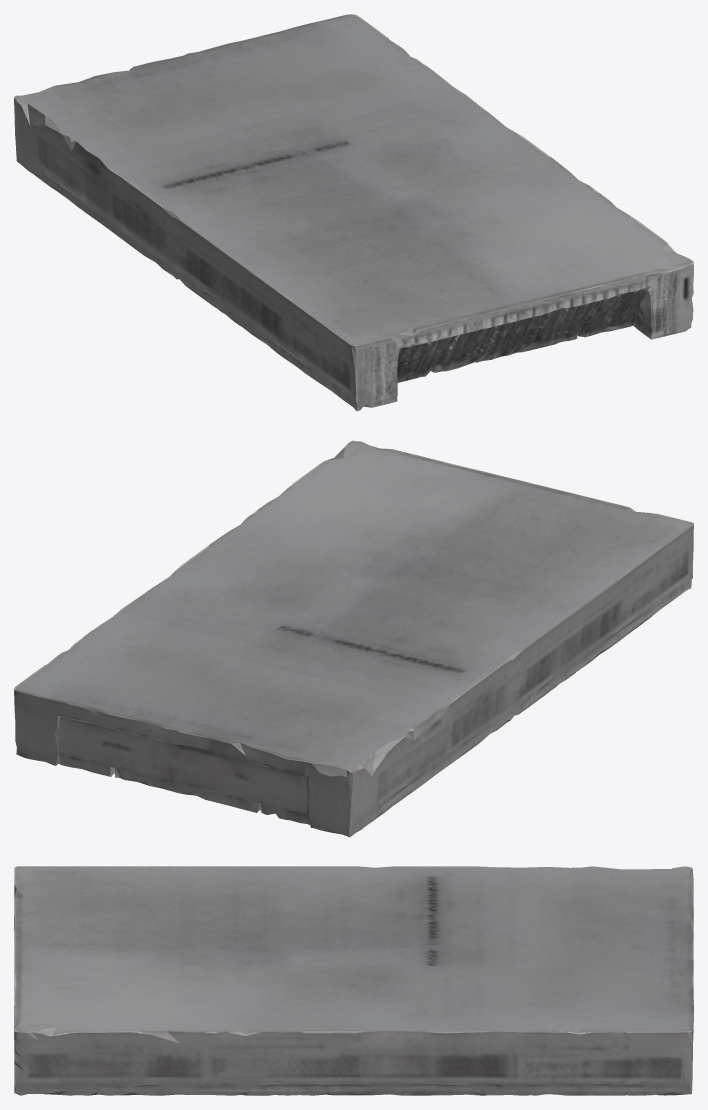
File: cisco-ucs-c240-m7.rodin.glb
3 renders of one model, top to bottom at view 1: azimuth 30°, elevation 25°; view 2: azimuth 150°, elevation 25°; view 3: azimuth 270°, elevation 25°, orthographic.
Visible parts, largest first — view 1: C240_RODIN; view 2: C240_RODIN; view 3: C240_RODIN.
Boxes of the visible parts, x1=… form: C240_RODIN: x1=14, y1=14, x2=693, y2=411; C240_RODIN: x1=14, y1=440, x2=693, y2=837; C240_RODIN: x1=14, y1=866, x2=693, y2=1095.
Bounding box in the file's own units: 0.445 × 0.0831 × 0.7688.
1 material, 1 textured.
